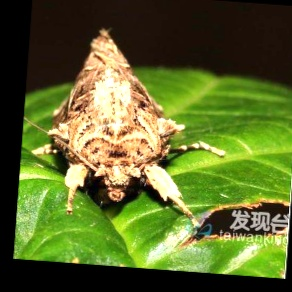Spodoptera litura: (24, 27, 227, 220)
